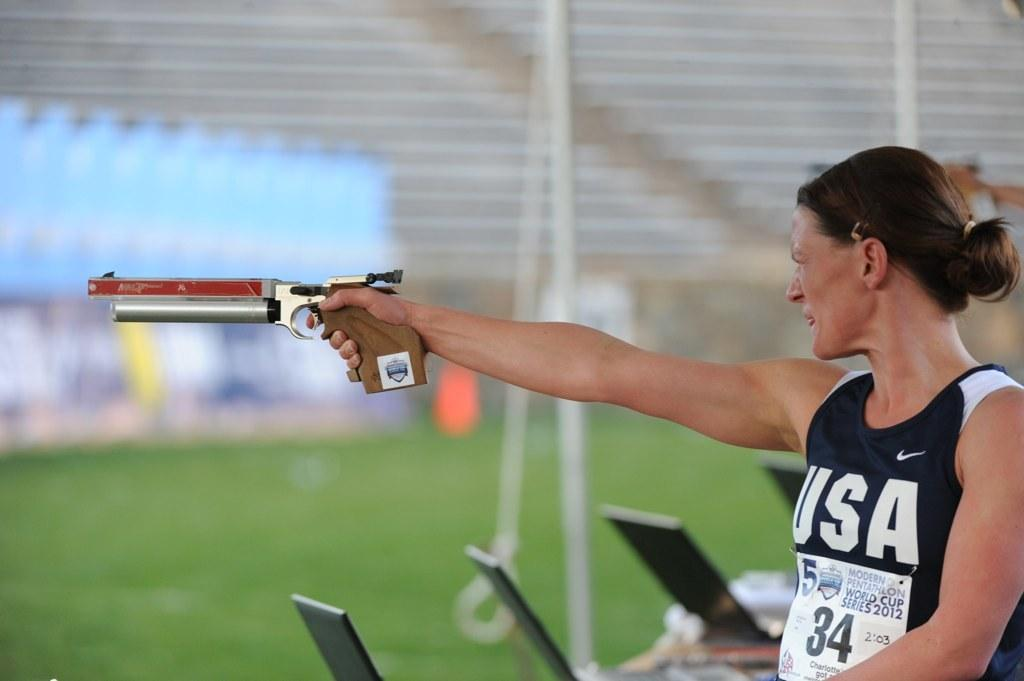Shotgun: (109, 267, 465, 383)
